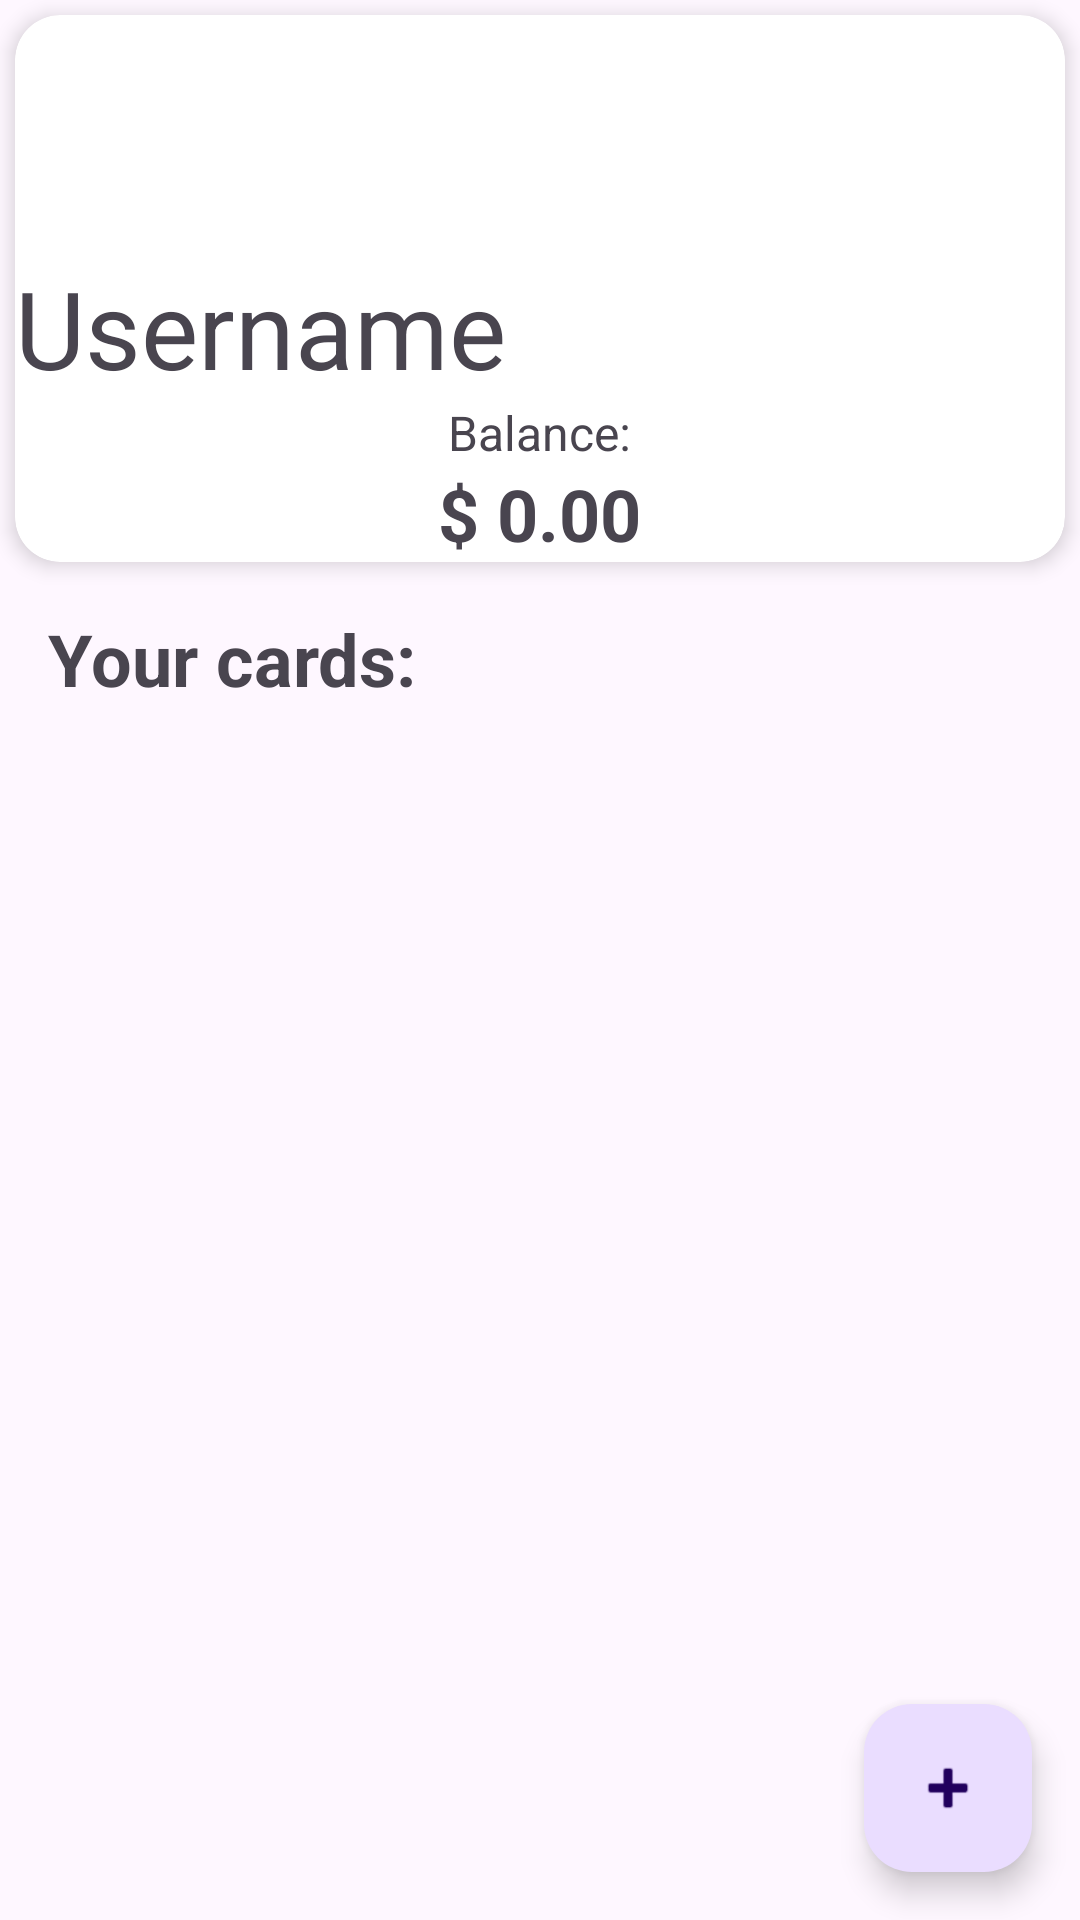

Named icons in this screenshot (1080x1920) and their bounding boxes, BBox(x1, y1, x2, y2):
Add card: BBox(864, 1704, 1032, 1872)
